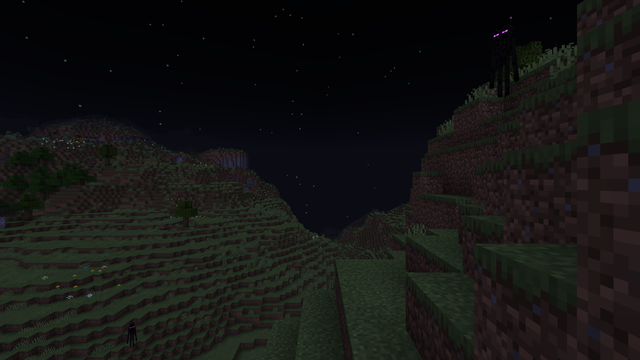endermens: (491, 21, 516, 97), (127, 322, 134, 347)
